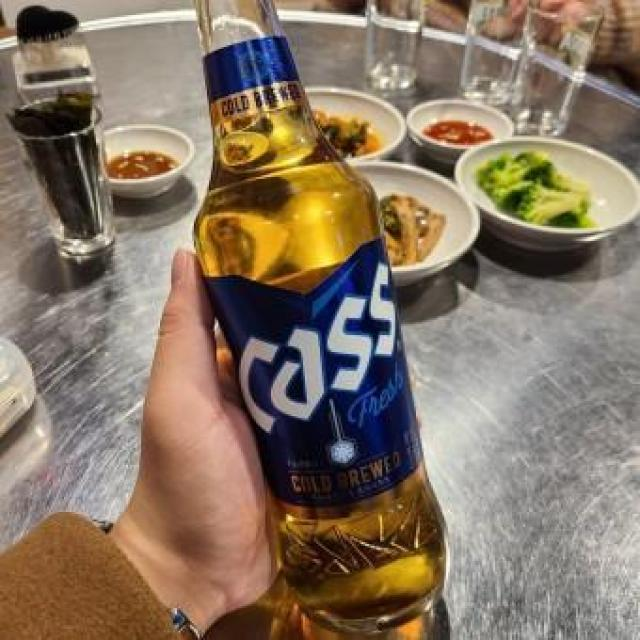beer-bottle: (168, 0, 468, 638)
